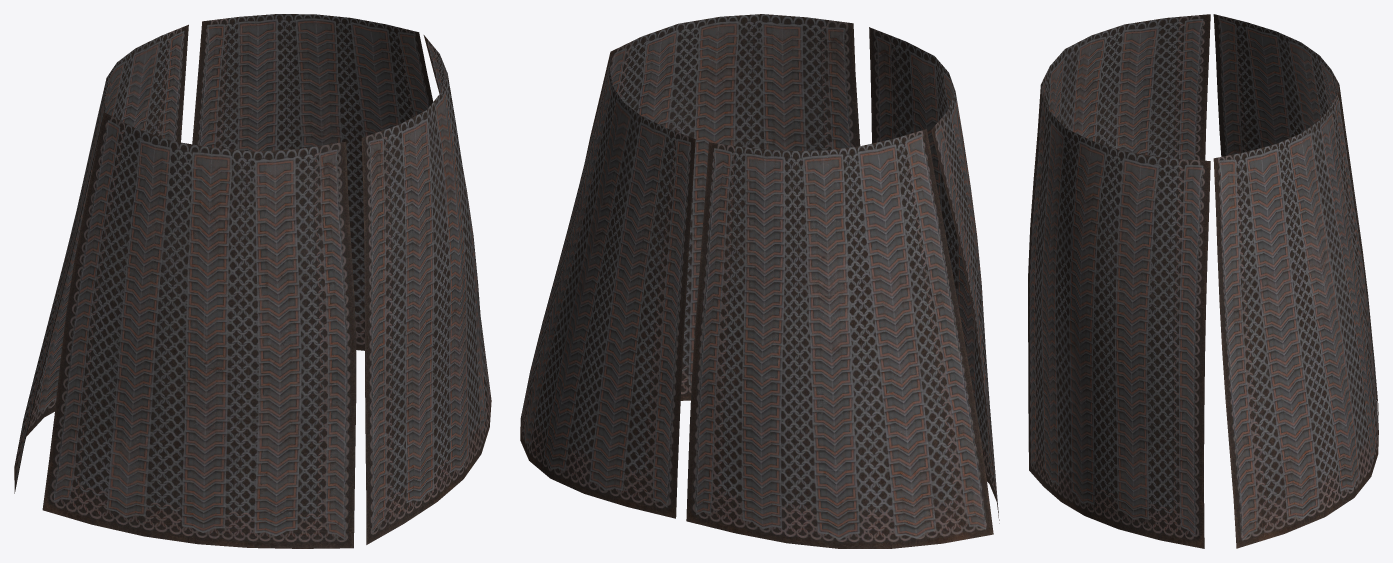
Rendered from clo_sk_dwarf_dain_chest_a.fbx.
3 views of the same model, side by side, from view 1: azimuth 30°, elevation 25°; view 2: azimuth 150°, elevation 25°; view 3: azimuth 270°, elevation 25° (orthographic). The views are drawn at different scales.
Parts seen in each view (by area): view 1: clo_sk_dwarf_dain_chest_a; view 2: clo_sk_dwarf_dain_chest_a; view 3: clo_sk_dwarf_dain_chest_a.
Part boxes in pixels (<box>): clo_sk_dwarf_dain_chest_a: <box>14,14,491,548</box>; clo_sk_dwarf_dain_chest_a: <box>520,14,999,548</box>; clo_sk_dwarf_dain_chest_a: <box>1028,14,1378,548</box>.
Bounding box in the file's own units: 0.5511 × 0.3771 × 0.4521.
Materials: 1 (1 with a texture image).
